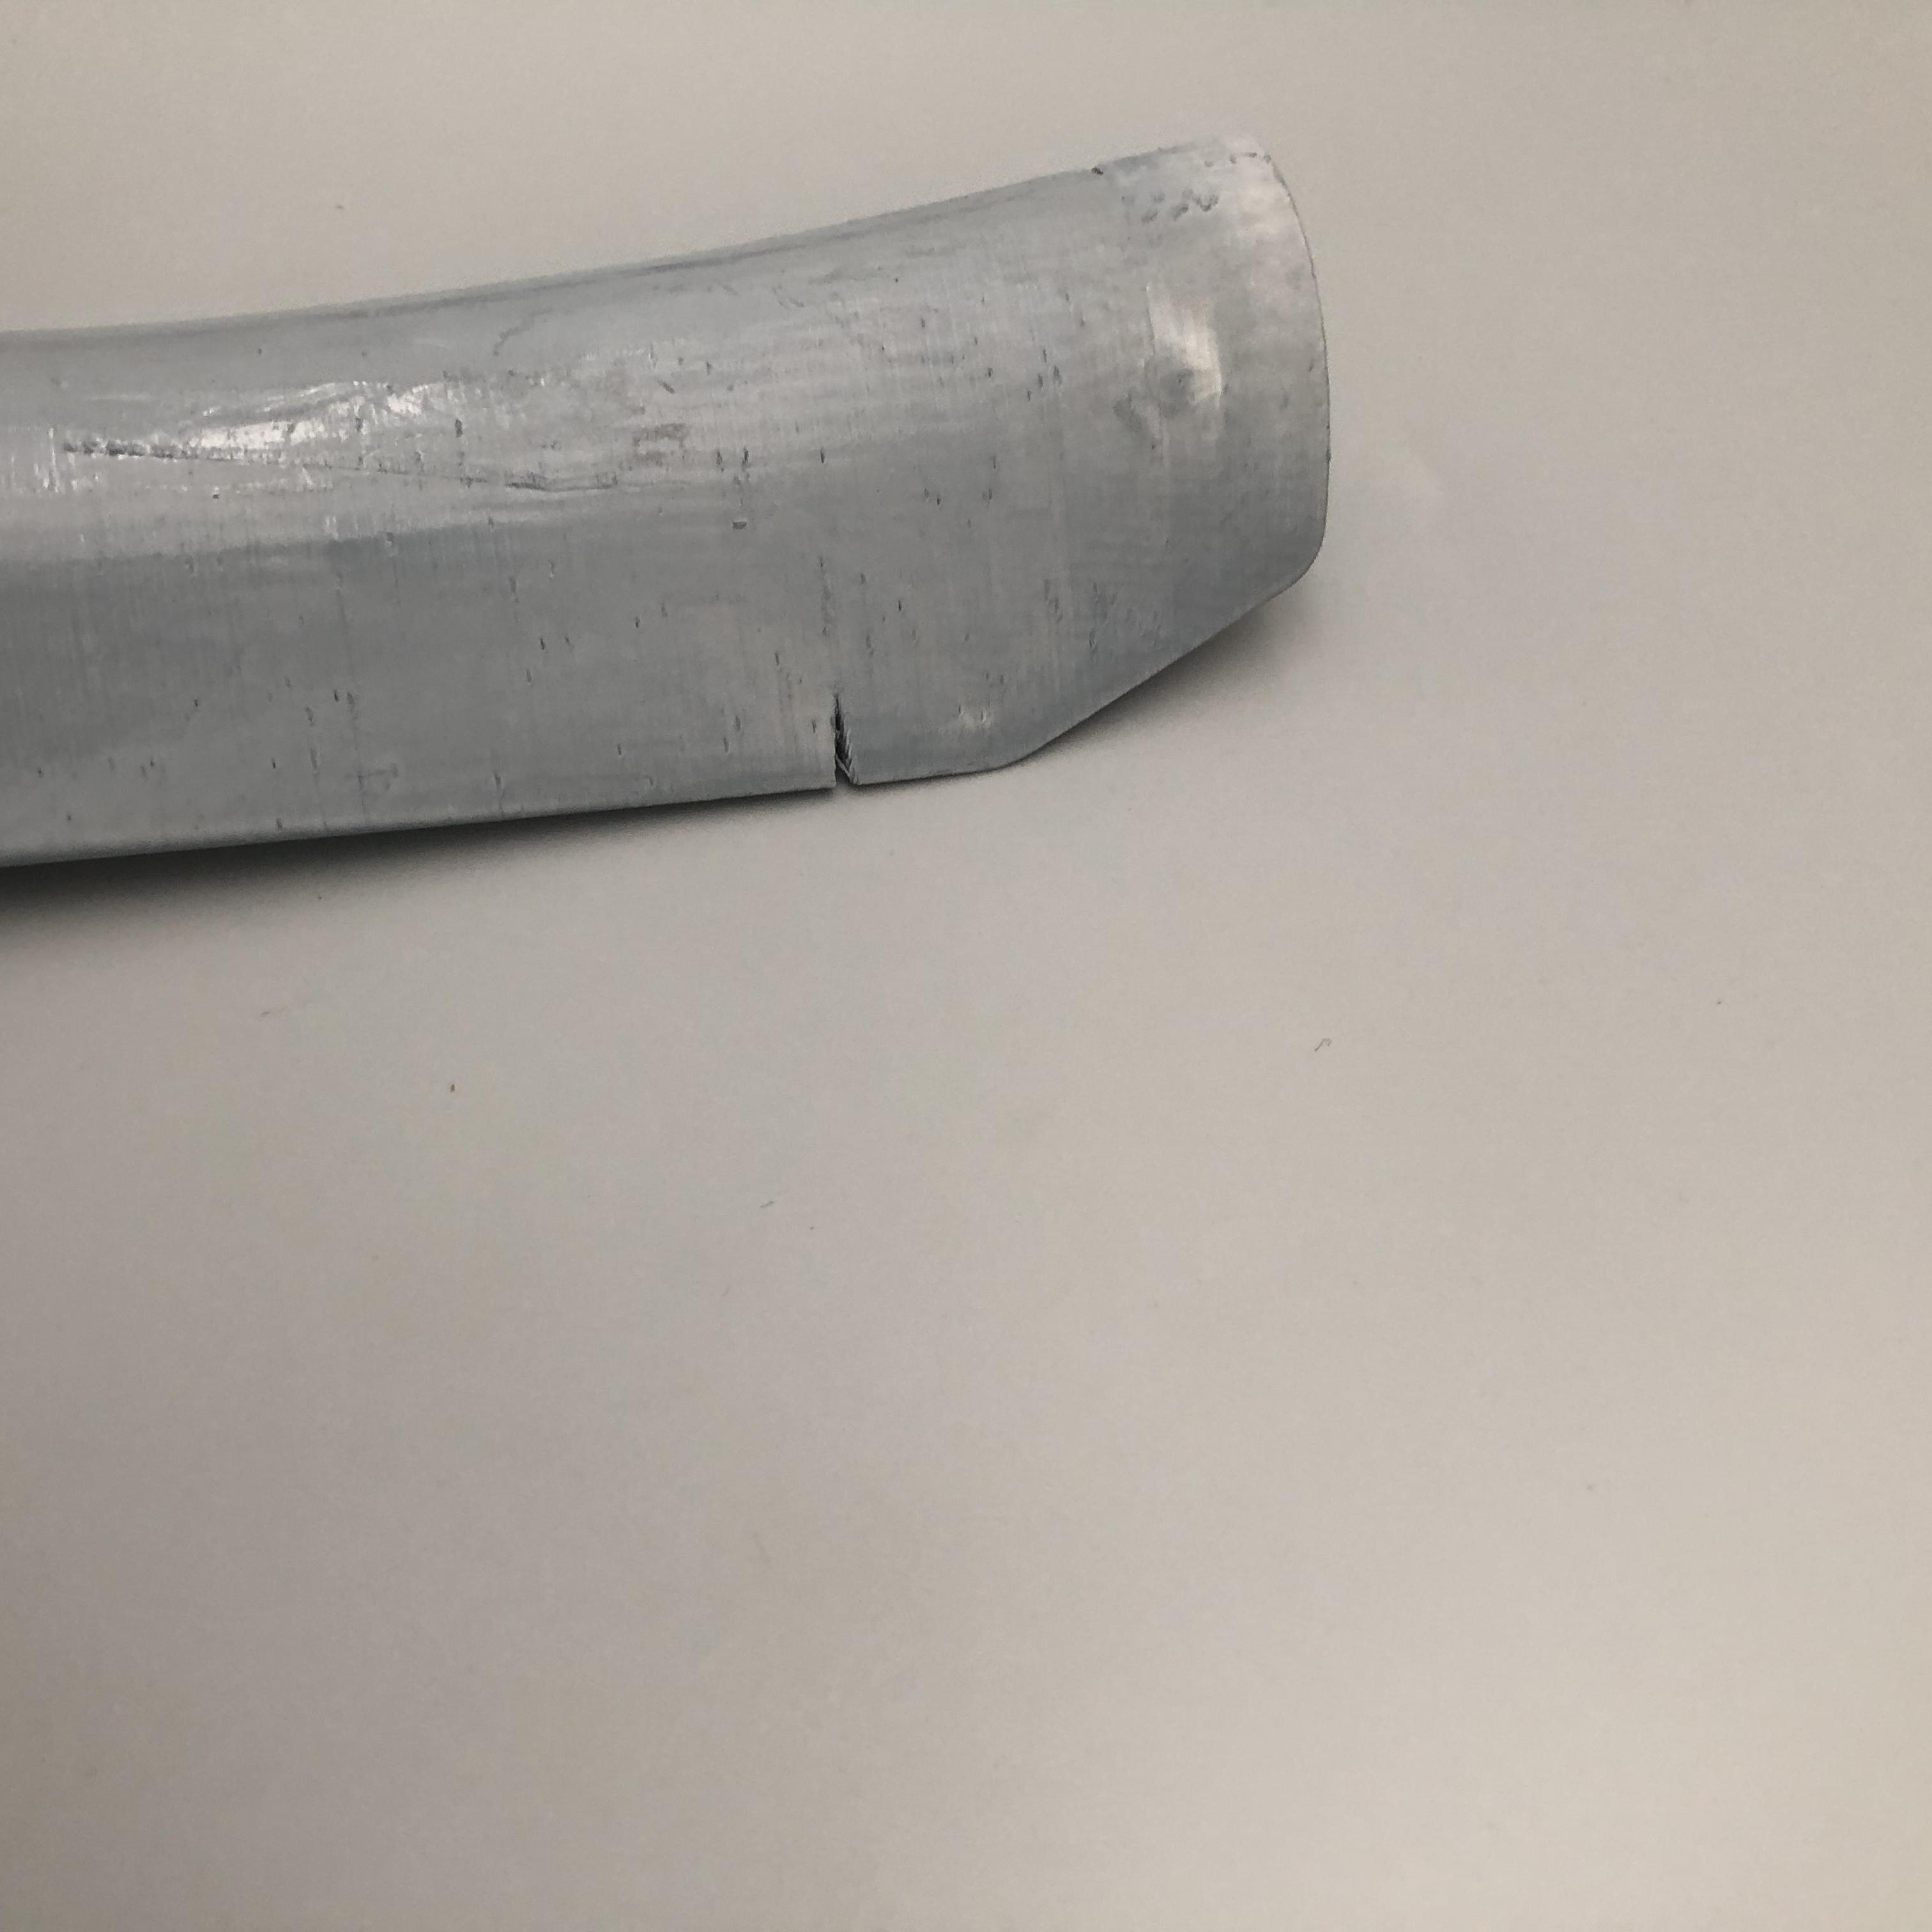groove: (810, 694, 886, 791), (1085, 163, 1115, 177)
